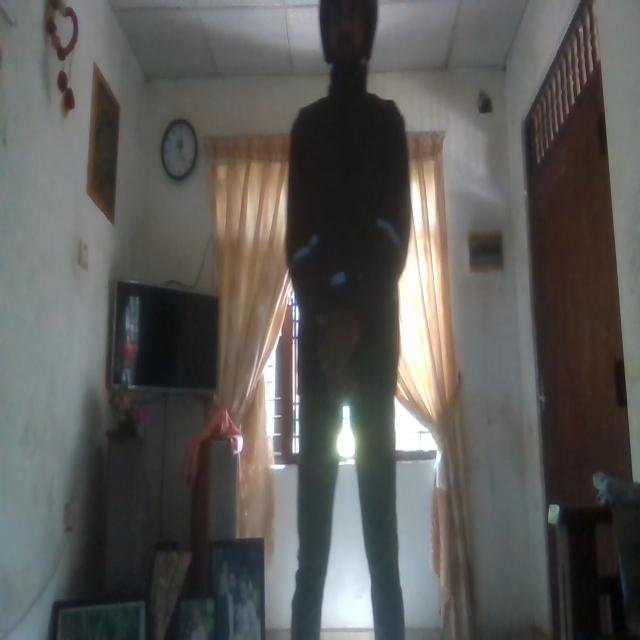Helmet_Wearer: (313, 0, 379, 71)
Jacket_Wearer: (278, 74, 416, 394)
Person: (284, 0, 419, 632)
